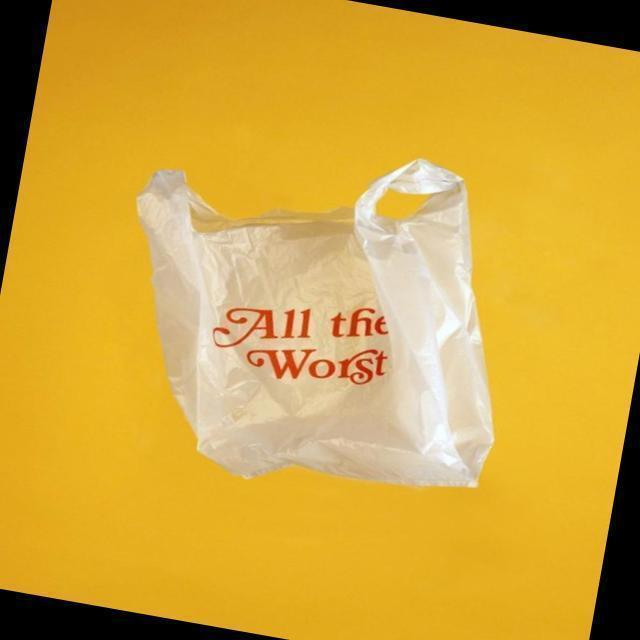Plastic_Bag: (89, 113, 538, 532)
